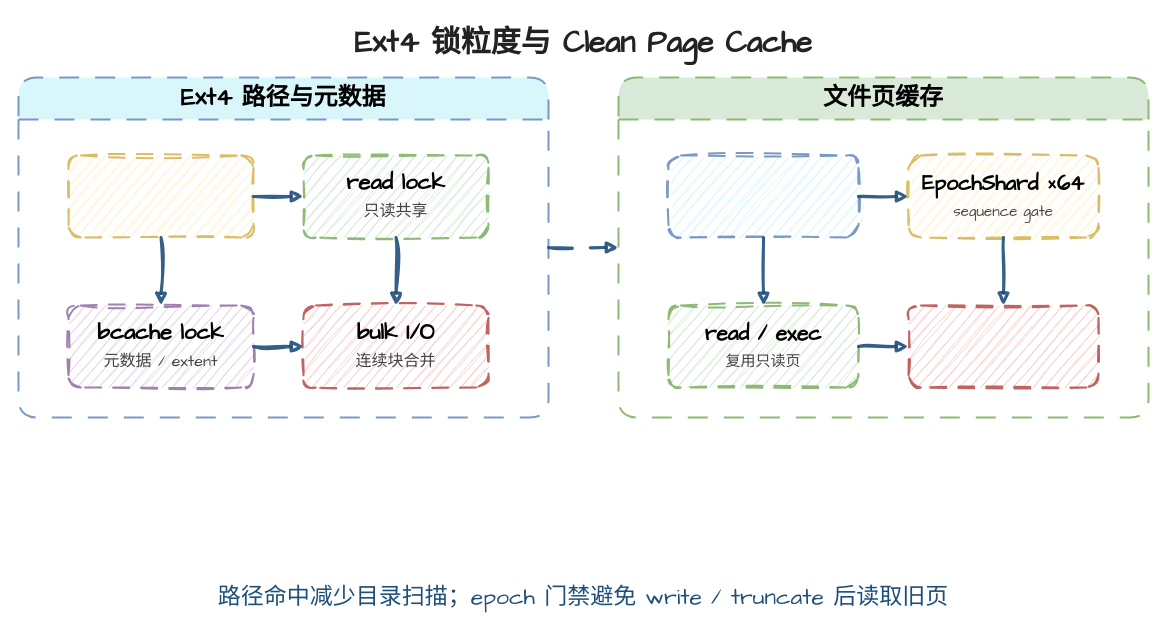
Image size: 1166x634. Some labels were removed from this diagram. Each missing label, with the centre of its shape:
"mmap fault VmObject 复用" belongs at [1003,346].
"PageShard ×64 LRU + clean page" belongs at [763,196].
"path cache 4096 entries" belongs at [160,196].
